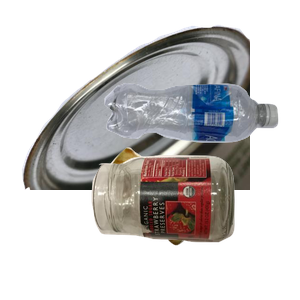glass: (89, 153, 300, 300)
metal: (19, 22, 259, 202)
plastic: (102, 81, 300, 216)
trash: (96, 145, 295, 300)
